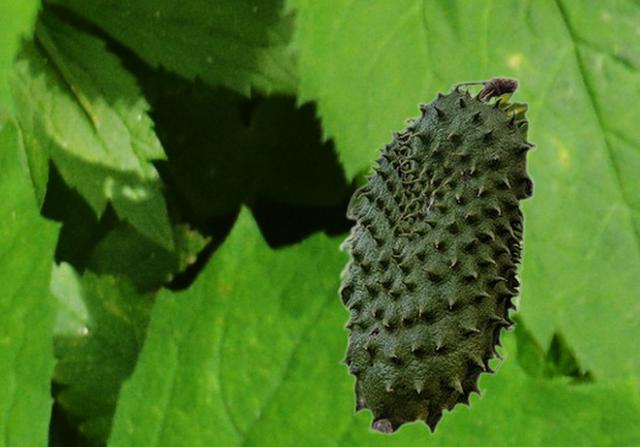guyabano: (336, 75, 536, 435)
